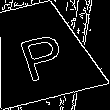P_N: (11, 22, 69, 81)
